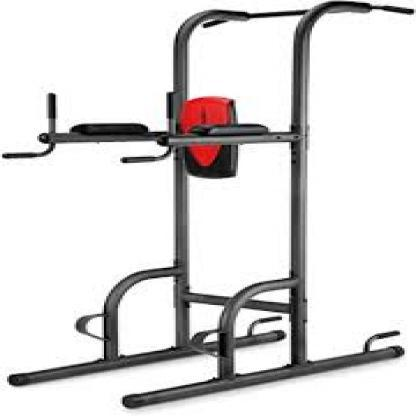chinning dipping: (3, 0, 406, 407)
